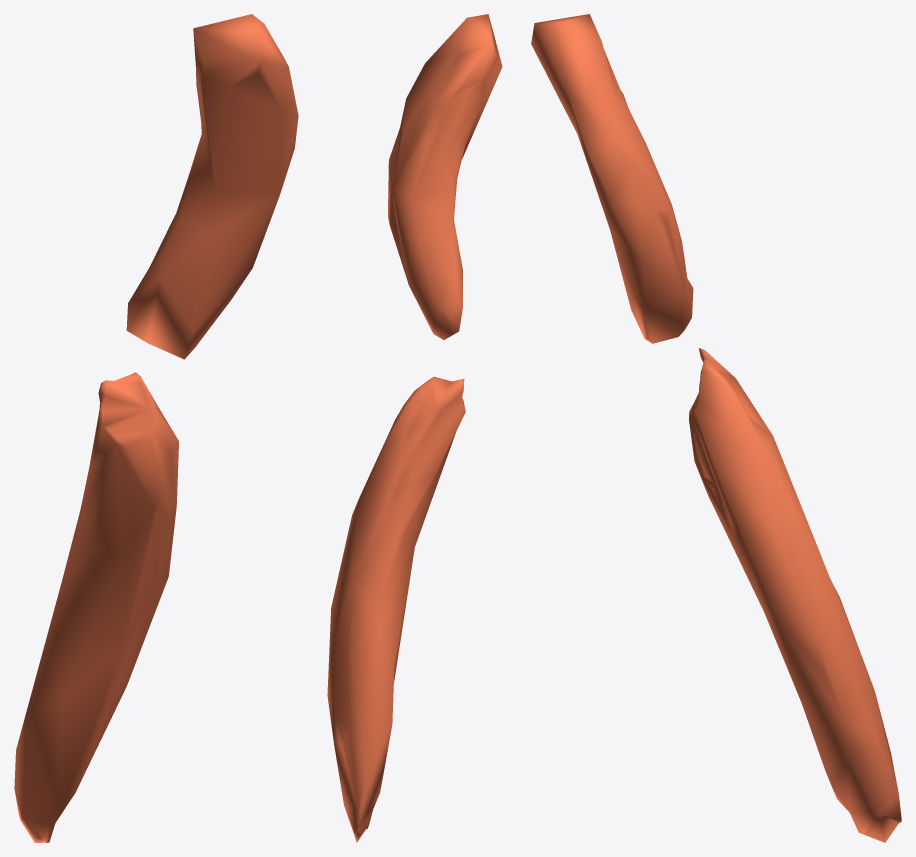
File: Interspinales_thoracis_left.glb
The picture shows the model from 3 angles, left to right: view 1: azimuth 30°, elevation 25°; view 2: azimuth 150°, elevation 25°; view 3: azimuth 270°, elevation 25°; orthographic projection. The views are drawn at different scales.
Parts seen in each view (by area): view 1: Interspinales_thoracis_muscle.l_Generated_Mesh_From_X3D.444; view 2: Interspinales_thoracis_muscle.l_Generated_Mesh_From_X3D.444; view 3: Interspinales_thoracis_muscle.l_Generated_Mesh_From_X3D.444.
Boxes of the visible parts, box(x1,y1,x2,y2) form: Interspinales_thoracis_muscle.l_Generated_Mesh_From_X3D.444: box(14, 14, 298, 842); Interspinales_thoracis_muscle.l_Generated_Mesh_From_X3D.444: box(327, 14, 502, 842); Interspinales_thoracis_muscle.l_Generated_Mesh_From_X3D.444: box(531, 14, 901, 842).
Bounding box in the file's own units: 0.0071 × 0.0449 × 0.0181.
